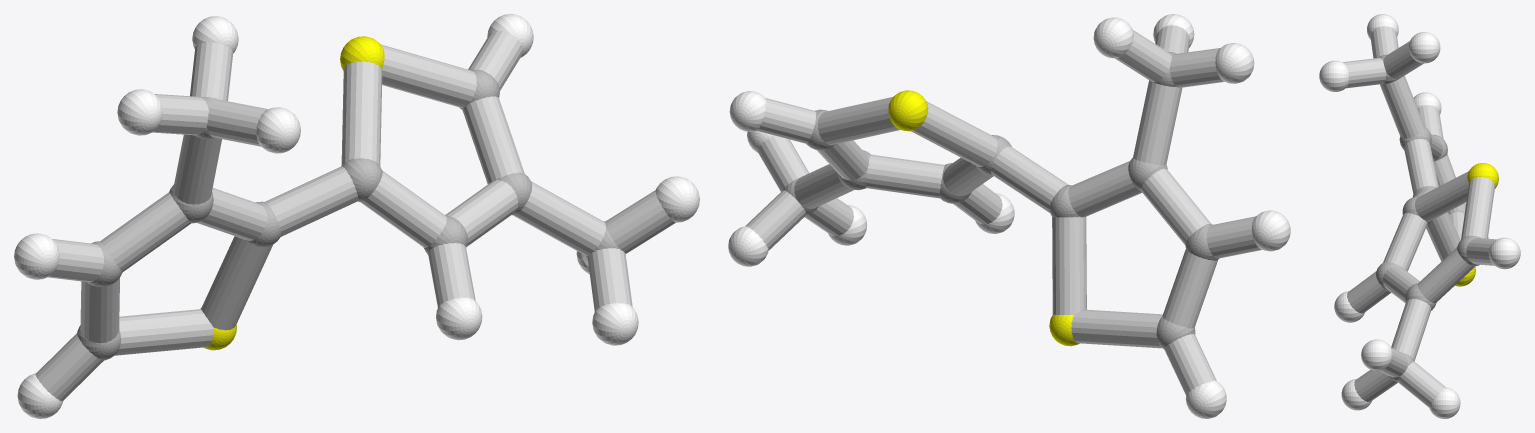
Rendered from Methylthiophene_Phi_30_Theta_300_Methylthiophene.glb.
3 renders of one model, left to right at view 1: azimuth 30°, elevation 25°; view 2: azimuth 150°, elevation 25°; view 3: azimuth 270°, elevation 25°, orthographic. The views are drawn at different scales.
Parts seen in each view (by area): view 1: grp7965, grp3621, grp1, grp7241; view 2: grp7965, grp3621, grp1, grp7241; view 3: grp7965, grp3621, grp1, grp7241.
Part boxes in pixels (x1,y1,x2,y2): grp7965: [35, 30, 675, 400]; grp3621: [14, 14, 699, 418]; grp1: [77, 69, 619, 360]; grp7241: [200, 36, 384, 350]; grp7965: [745, 25, 1262, 395]; grp3621: [728, 14, 1290, 418]; grp1: [783, 52, 1219, 349]; grp7241: [888, 90, 1079, 346]; grp7965: [1343, 26, 1496, 407]; grp3621: [1319, 14, 1520, 418]; grp1: [1376, 54, 1480, 381]; grp7241: [1455, 163, 1498, 286].
Size of the model in its own units: 9.6 by 5.56 by 3.78.
